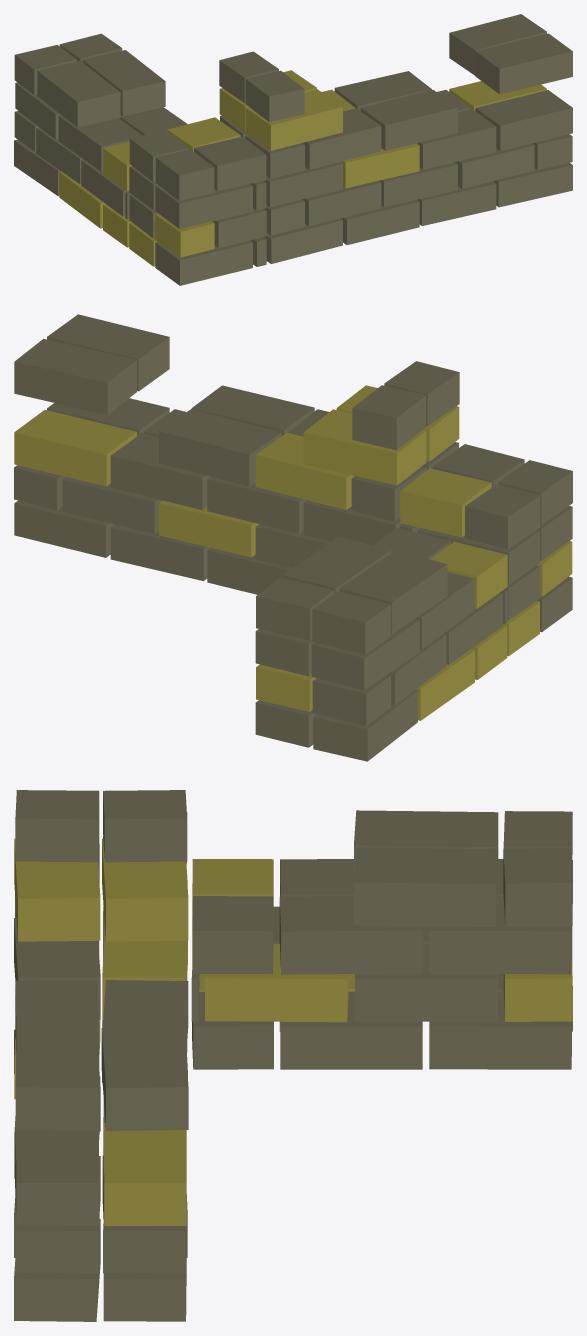
Rendered from SM_PretilEsquinaPaso_v2_Irregular_e0_Sano_LOD0.fbx.
3 renders of one model, top to bottom at view 1: azimuth 30°, elevation 25°; view 2: azimuth 150°, elevation 25°; view 3: azimuth 270°, elevation 25°, orthographic. The views are drawn at different scales.
Parts seen in each view (by area): view 1: SM_pretil_azotea_v48_LOD0; view 2: SM_pretil_azotea_v48_LOD0; view 3: SM_pretil_azotea_v48_LOD0.
Part boxes in pixels (bbox=[...]): SM_pretil_azotea_v48_LOD0: bbox=[14, 14, 572, 285]; SM_pretil_azotea_v48_LOD0: bbox=[14, 314, 572, 761]; SM_pretil_azotea_v48_LOD0: bbox=[14, 790, 572, 1321].
Bounding box in the file's own units: 4.38 × 1.77 × 3.18.
